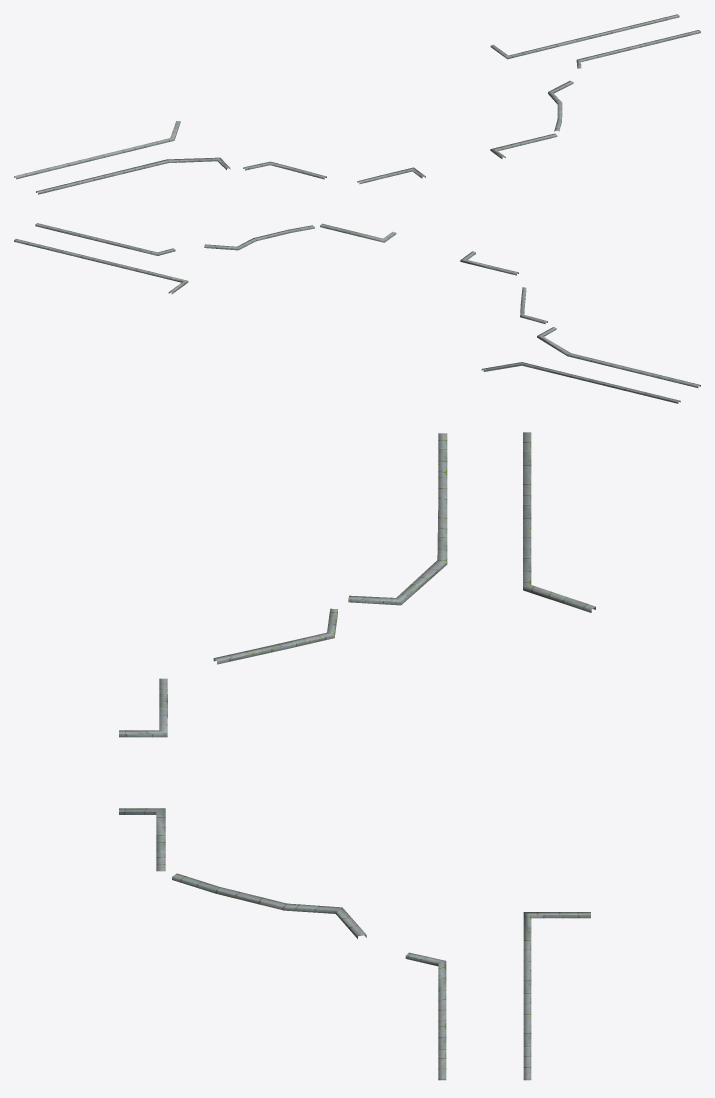
File: Map_06_brick11.FBX
The picture shows the model from 3 angles, top to bottom: view 1: azimuth 30°, elevation 25°; view 2: azimuth 150°, elevation 25°; view 3: azimuth 270°, elevation 25°; orthographic projection. The views are drawn at different scales.
Parts seen in each view (by area): view 1: Map_06_brick11; view 2: Map_06_brick11; view 3: Map_06_brick11.
Part boxes in pixels (x1,y1,x2,y2): Map_06_brick11: [14, 14, 700, 194]; Map_06_brick11: [14, 223, 700, 403]; Map_06_brick11: [119, 432, 595, 1080].
Bounding box in the file's own units: 18882 × 5877 × 45.09.
